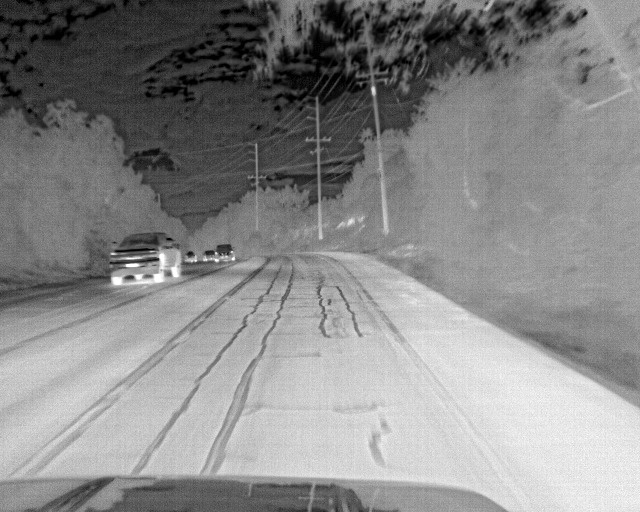vehicle: (110, 232, 184, 289), (215, 243, 235, 263), (187, 249, 199, 261)
